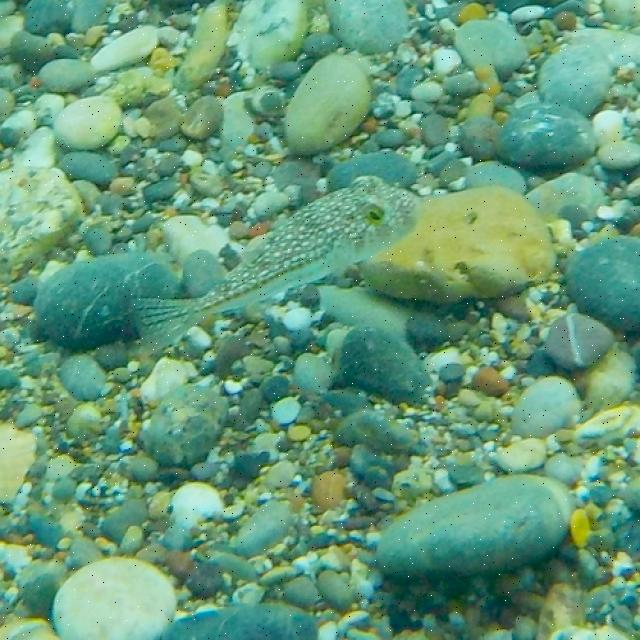Balik: (136, 176, 417, 350)
